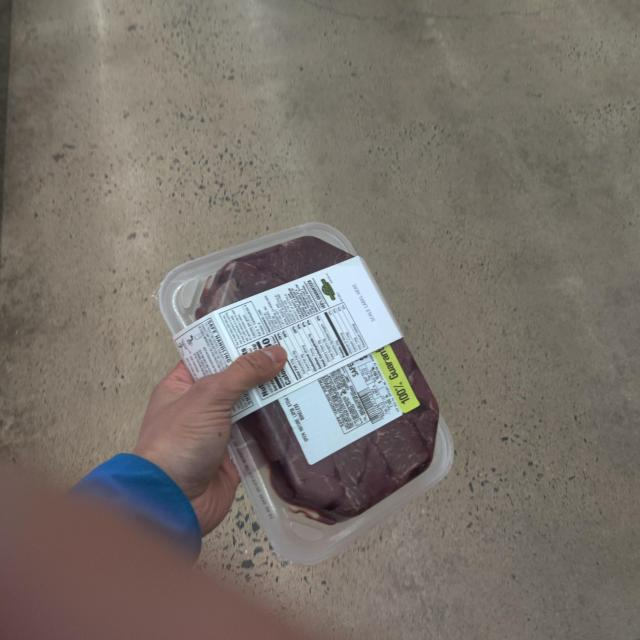Meat: (155, 231, 463, 565)
